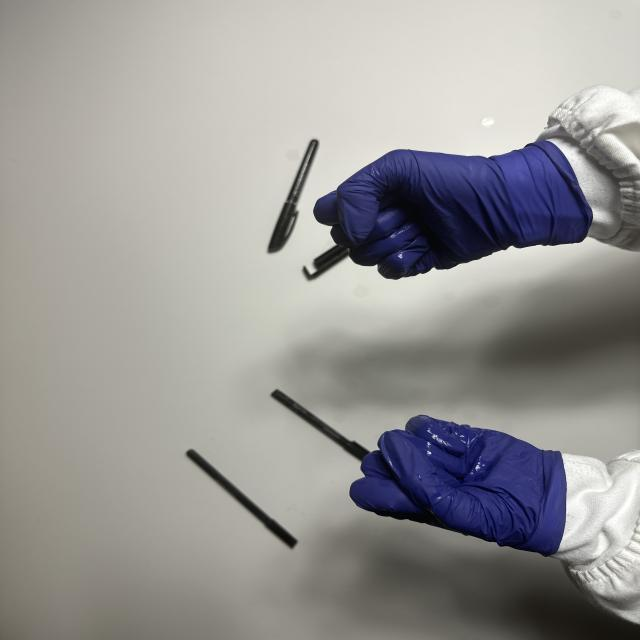gloves_contaminated: (314, 142, 591, 279), (350, 416, 566, 556)
